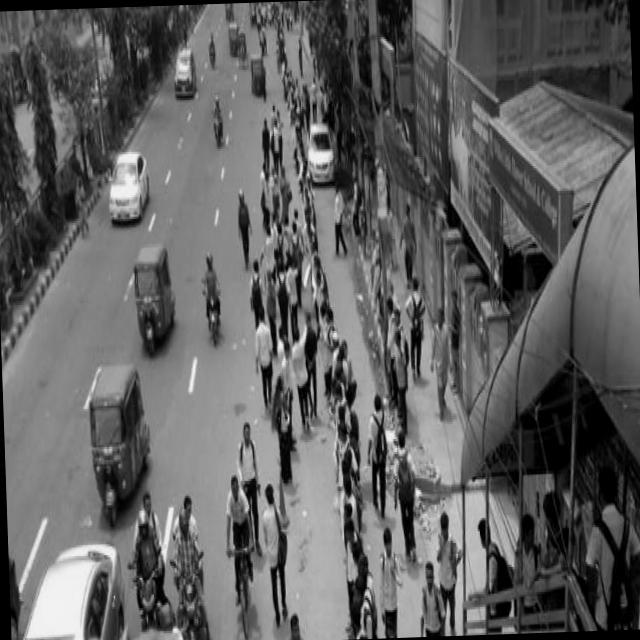car: (15, 538, 124, 640), (104, 142, 150, 221), (305, 114, 335, 184)
motorcycle: (85, 357, 151, 522), (129, 237, 177, 348), (170, 545, 206, 639), (127, 550, 159, 628), (199, 282, 227, 350), (248, 50, 264, 96), (208, 103, 222, 142), (235, 24, 246, 67), (226, 18, 236, 55), (205, 38, 216, 64), (221, 3, 234, 16)
truck: (170, 41, 196, 94)
